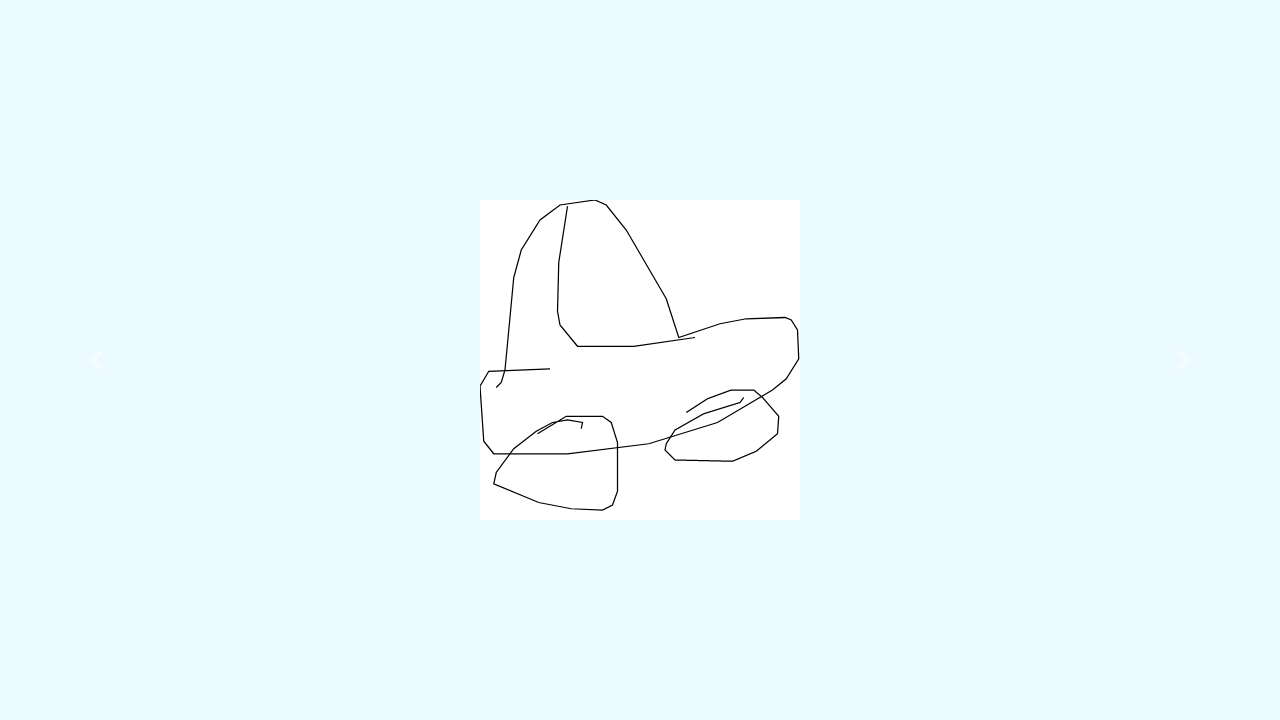car: (472, 195, 803, 519)
